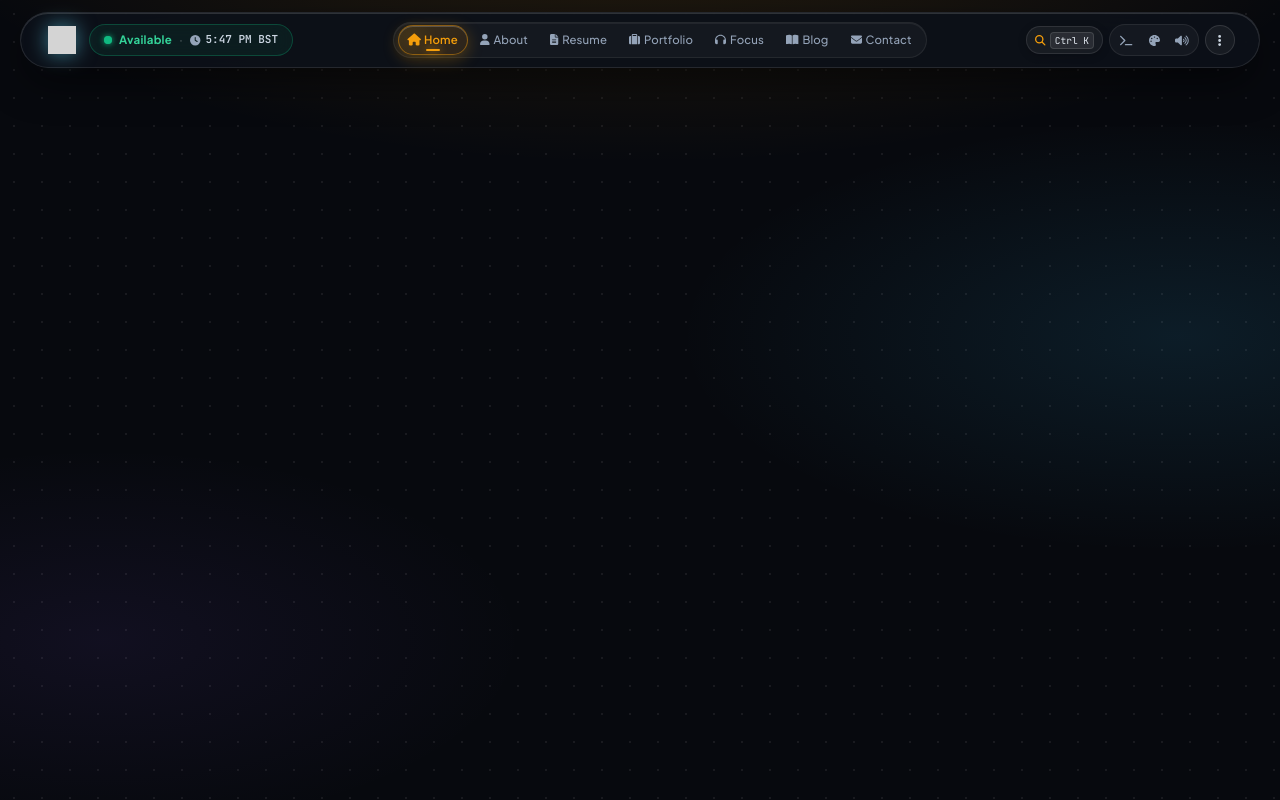
Sidebar Component › opens Command Palette when Spotlight search button is clicked
Click the button with aria-label "Open Command Search" at (1065, 40), box [1026,26,1103,54]
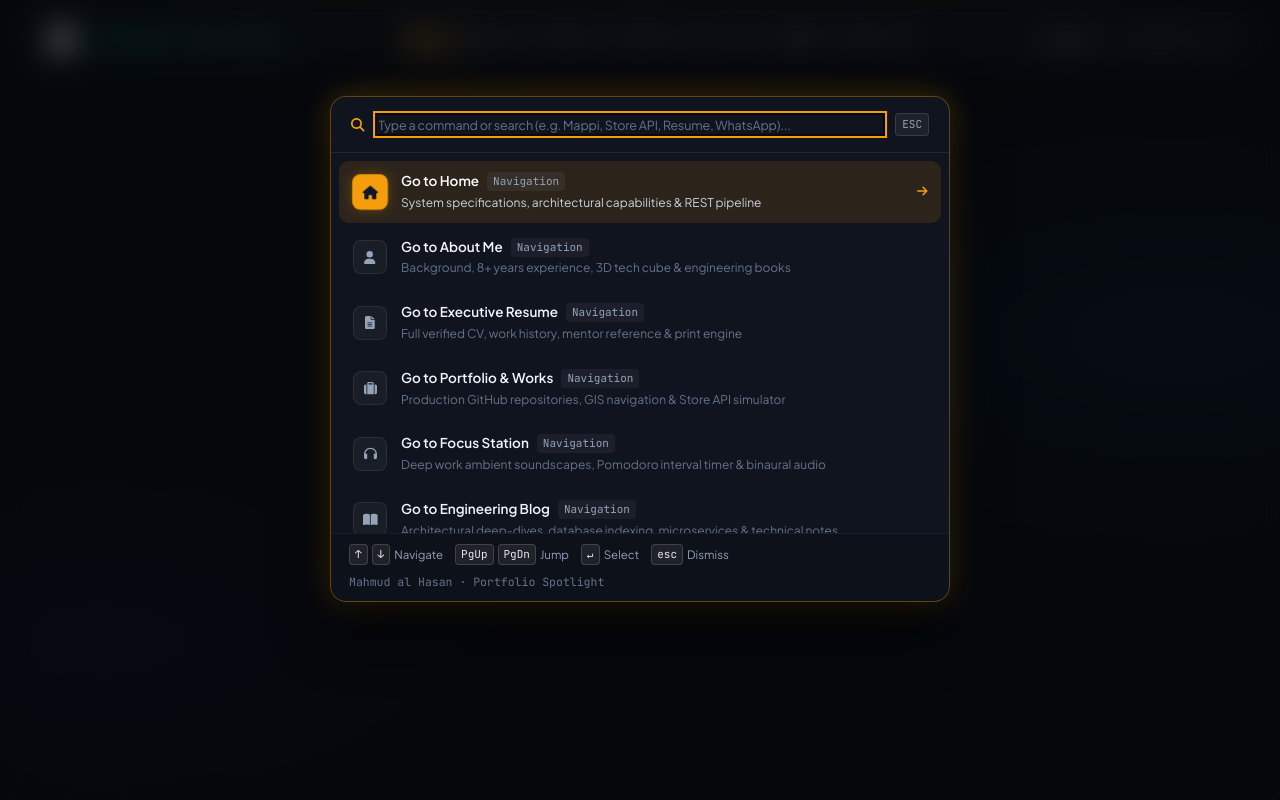
Now the dialog named "Command Spotlight Palette" is shown
